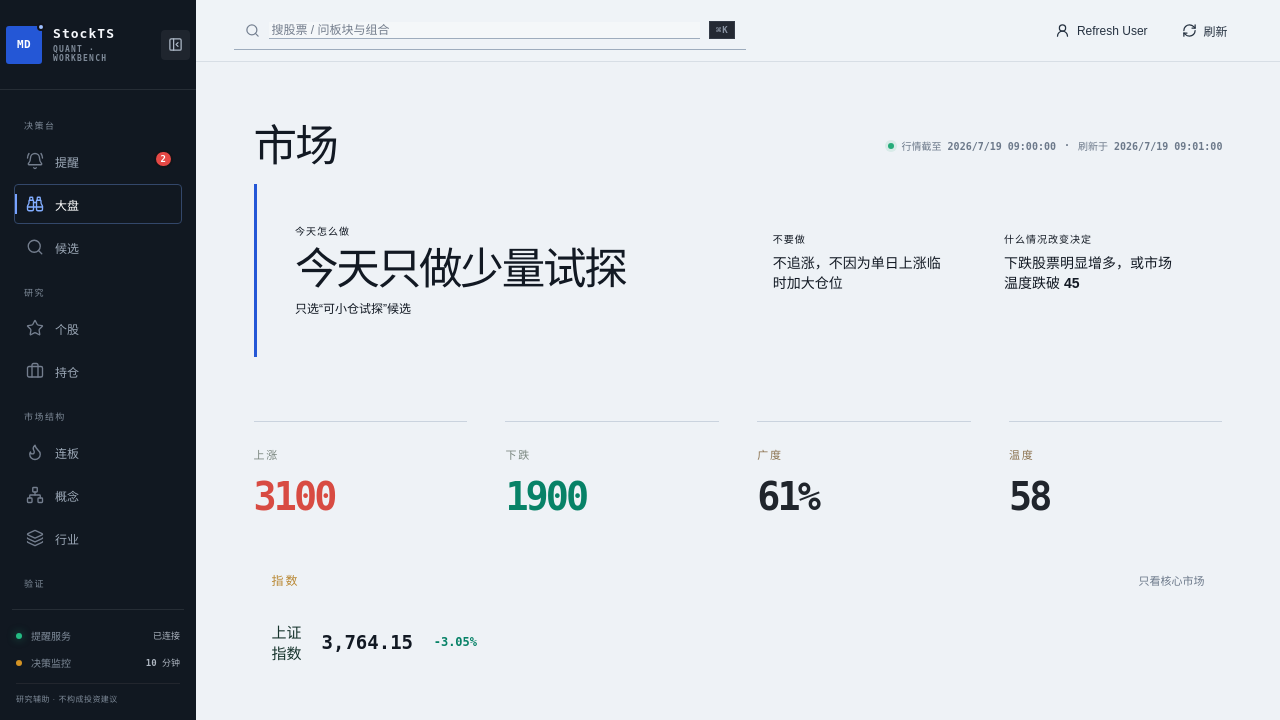
Scenario: shows market observation time separately from the latest refresh time
This screenshot has width=1280, height=720.
Expected: the text "行情截至 2026/7/19 09:00:00" is shown, [902,138,1056,153]
Expected: the text "刷新于 2026/7/19 09:01:00" is shown, [1078,138,1222,153]
What coordinates should you click on to do the following:
click the button "刷新"
I would click on:
 (1205, 30)
Its box is [1168,12,1242,48].
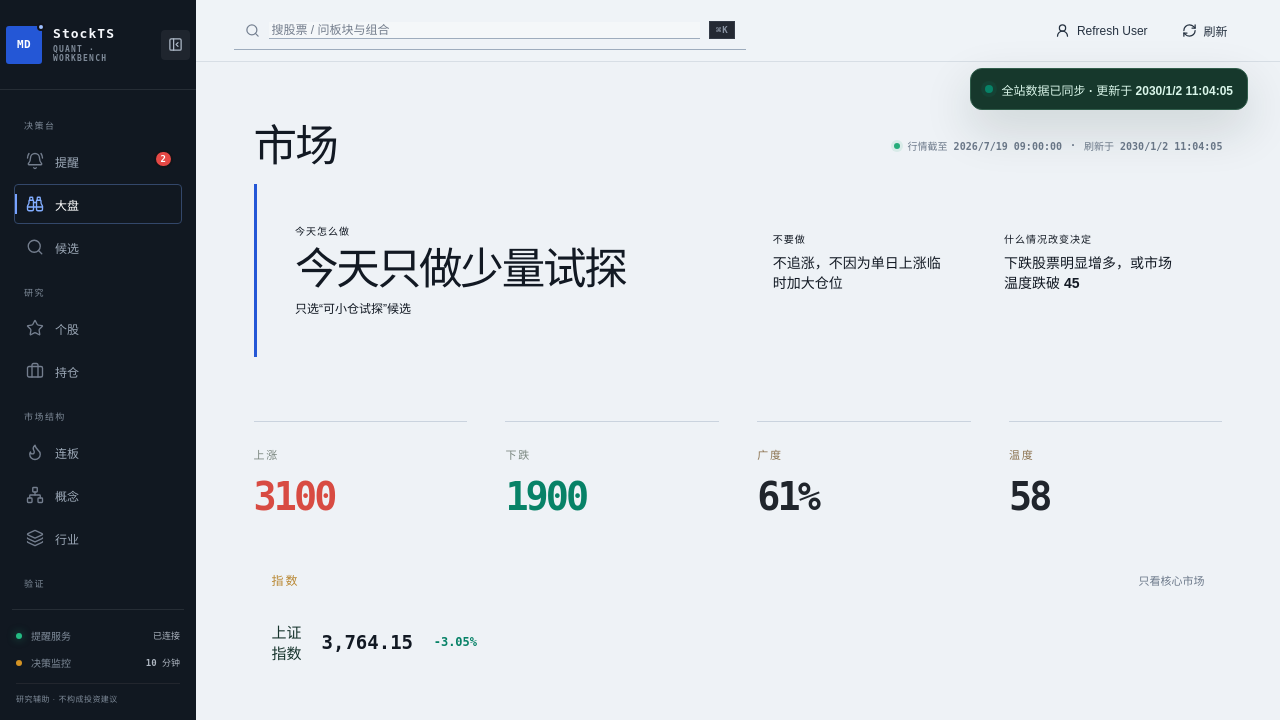
Expected: the text "行情截至 2026/7/19 09:00:00" is shown, [908,138,1062,153]
Result: the text "全站数据已同步 · 更新于 2030/1/2 11:04:05" is shown at [970,68,1248,110]
Result: the text "刷新于 2030/1/2 11:04:05" is shown at [1084,138,1222,153]
